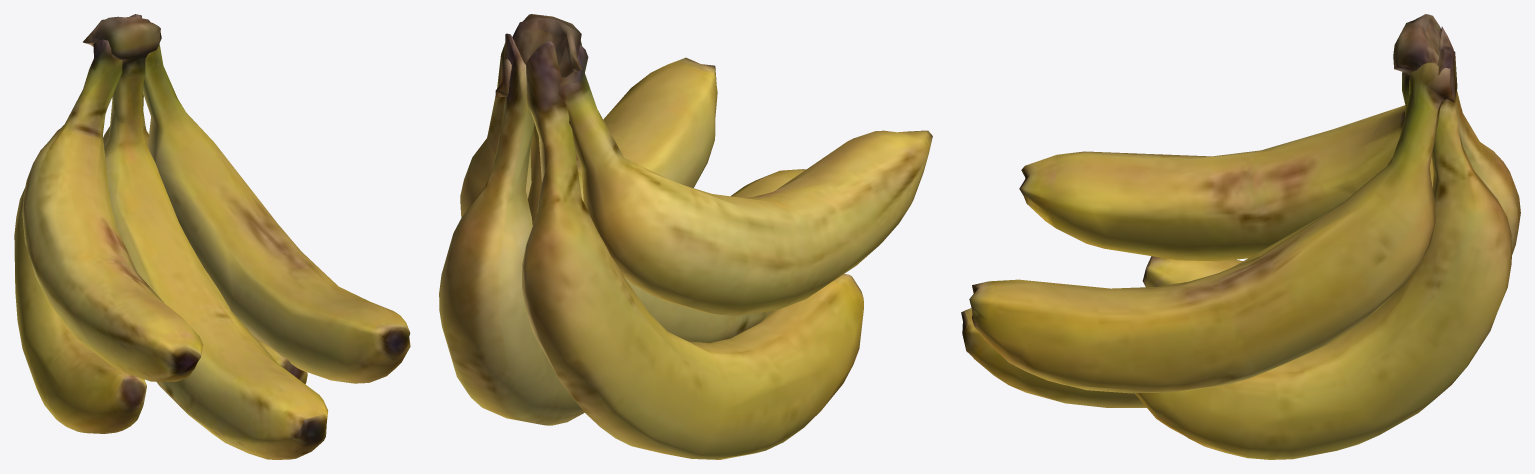
Rendered from banana.glb.
3 renders of one model, left to right at view 1: azimuth 30°, elevation 25°; view 2: azimuth 150°, elevation 25°; view 3: azimuth 270°, elevation 25°, orthographic. The views are drawn at different scales.
Visible parts, largest first — view 1: bananas_bunch; view 2: bananas_bunch; view 3: bananas_bunch.
Boxes of the visible parts, left/top/right/bottom form: bananas_bunch: left=14, top=14, right=410, bottom=459; bananas_bunch: left=439, top=14, right=932, bottom=459; bananas_bunch: left=961, top=14, right=1520, bottom=459.
Size of the model in its own units: 0.1332 by 0.1787 by 0.2226.
1 material, 1 textured.
